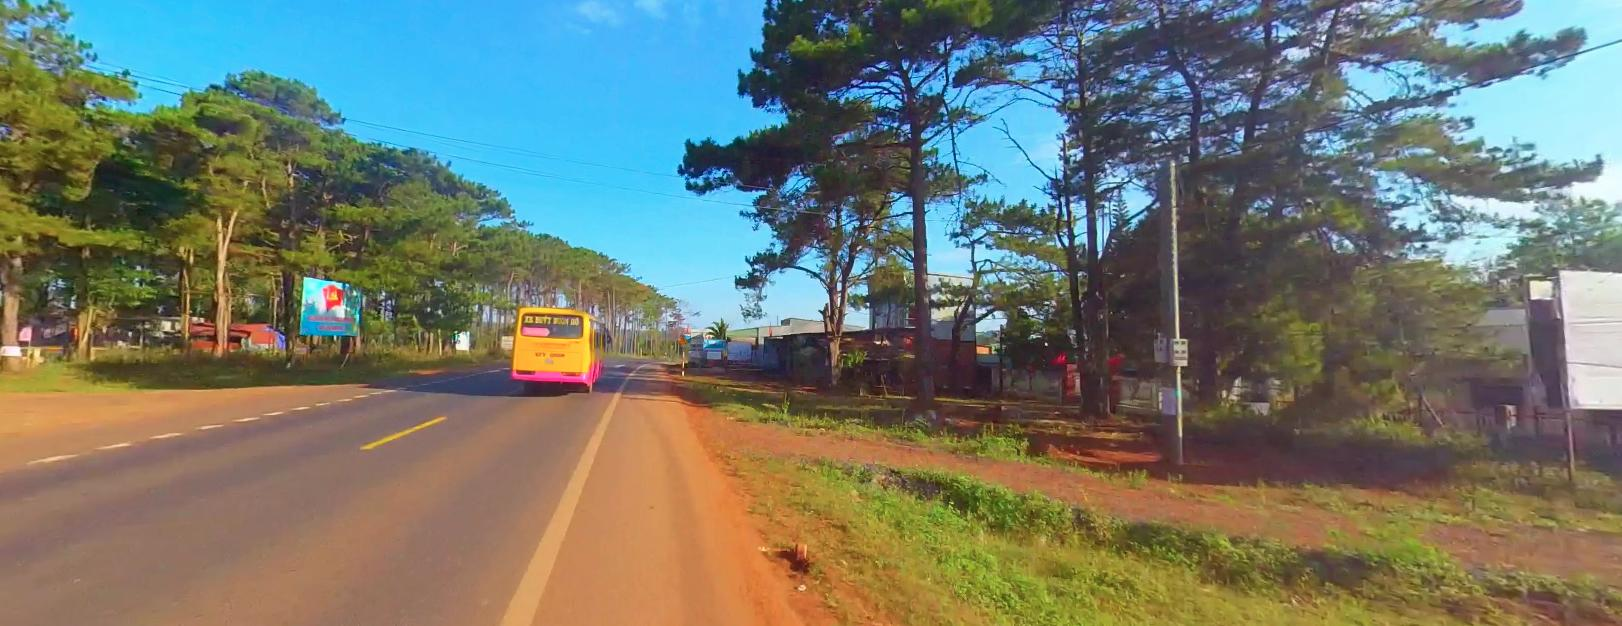Nguy hiem: (675, 332, 687, 342)
